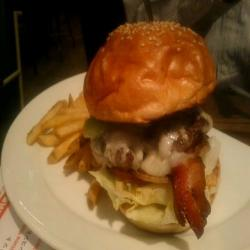burger: (85, 28, 216, 233)
fries: (39, 97, 95, 160)
